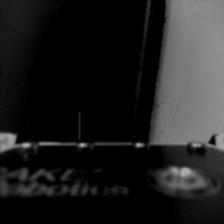Door Handle: (79, 112, 130, 140)
